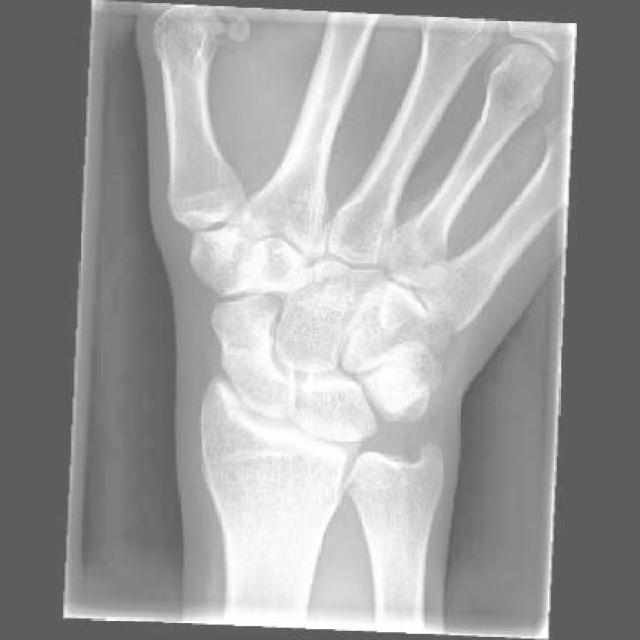Fracture: (216, 322, 282, 373)
